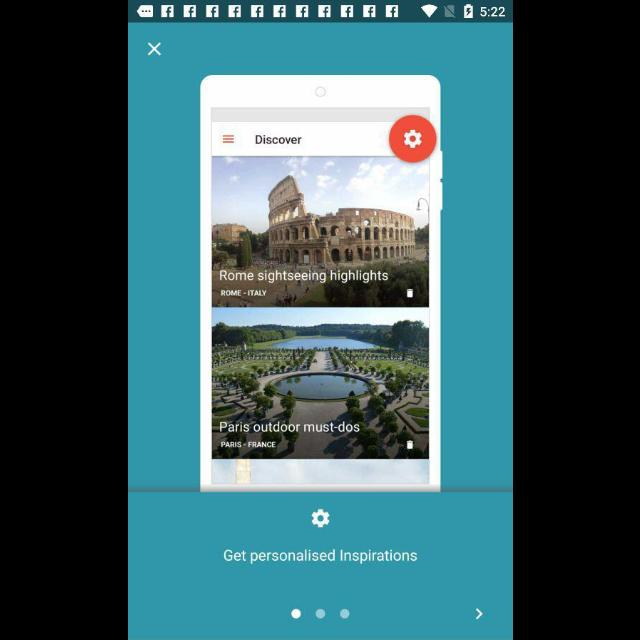icon: (310, 508, 330, 528), (147, 43, 161, 57), (475, 608, 483, 620)
image: (200, 75, 442, 492)
pageindicator: (290, 608, 350, 620)
text: (223, 549, 417, 565)
uppertaskbar: (128, 1, 512, 23)
